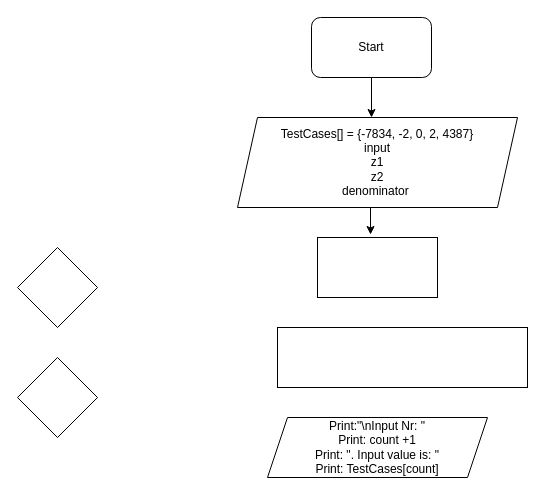
Image size: 545x495. Some labels were removed from this diagram. The centre of each missing label's shape, as x and y in pixels:
"count = 0" belongs at point (377, 267).
"input = TestCasesa[count] denominator =`input^2`" belongs at point (402, 357).
